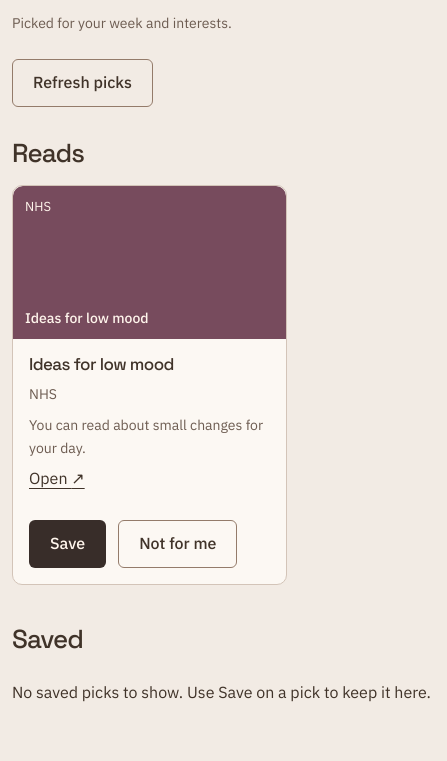
Test: Shelf rows, chips and covers › rebuilds picks when Refresh picks is clicked and shows a calm message at the daily limit
Click the button "Refresh picks": (82,83) [12, 59, 153, 107]
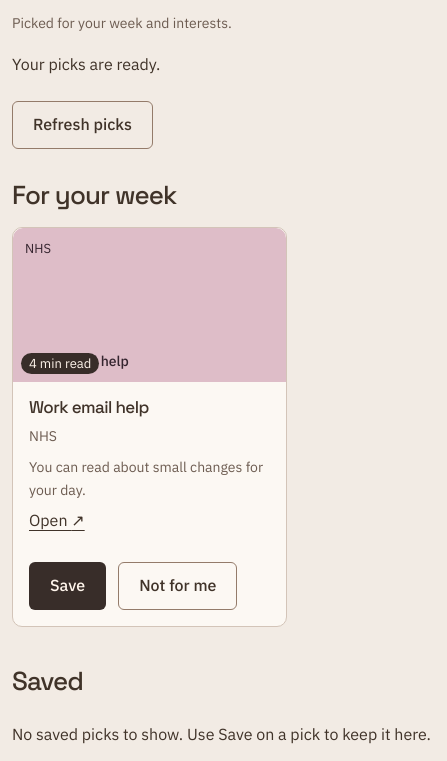
Check: the heading "Work email help" is shown, box [29, 396, 149, 418]
Click the button "Refresh picks": (82,125) [12, 102, 153, 149]
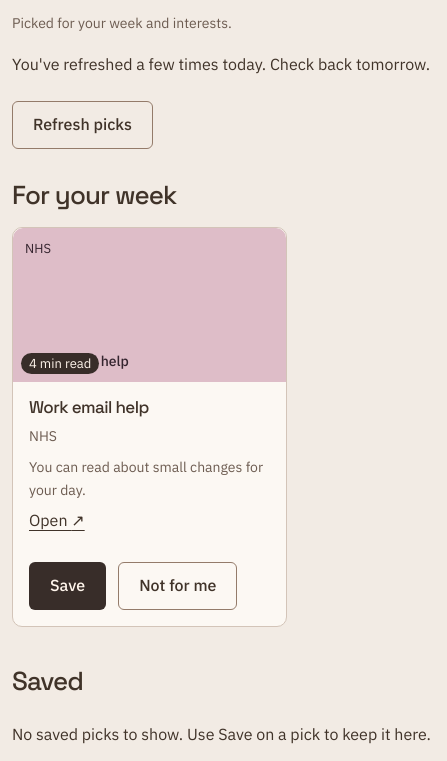
Check: the text "You've refreshed a few times today. Check back tomorrow." is shown, box [12, 54, 430, 74]
